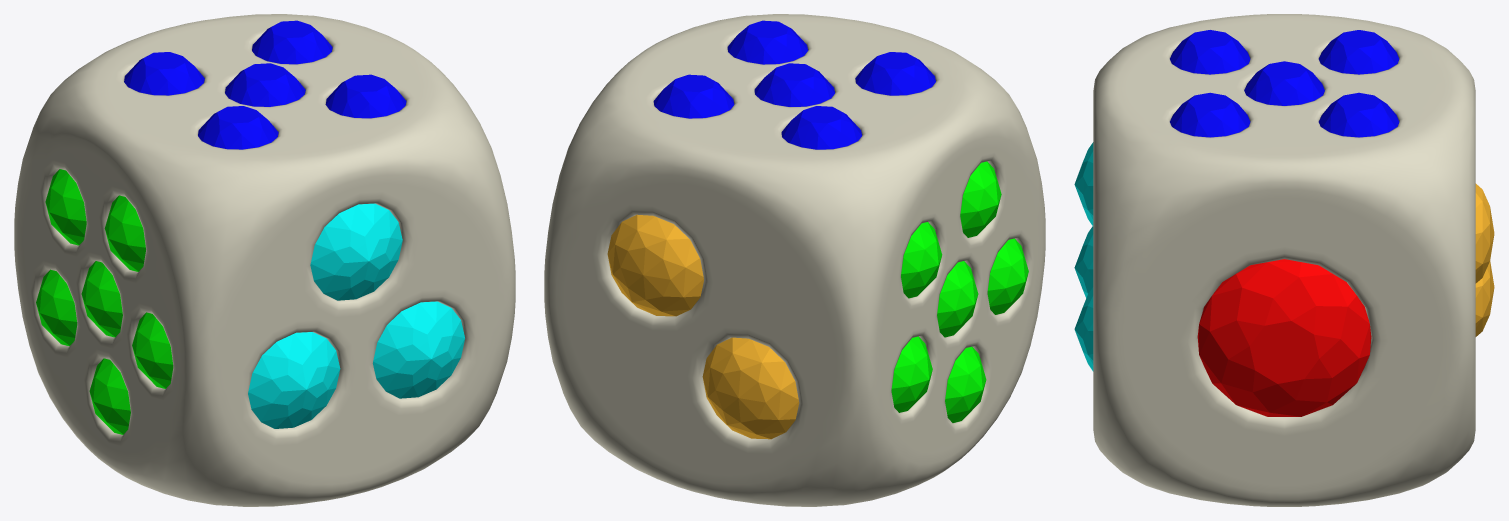
Rendered from GemDiceU.glb.
The picture shows the model from 3 angles, left to right: view 1: azimuth 30°, elevation 25°; view 2: azimuth 150°, elevation 25°; view 3: azimuth 270°, elevation 25°; orthographic projection.
Parts seen in each view (by area): view 1: Object010; view 2: Object010; view 3: Object010.
Boxes of the visible parts, bbox=[...] form: Object010: bbox=[14, 14, 515, 506]; Object010: bbox=[544, 14, 1045, 506]; Object010: bbox=[1074, 14, 1494, 506].
Bounding box in the file's own units: 0.5586 × 0.549 × 0.5494.
